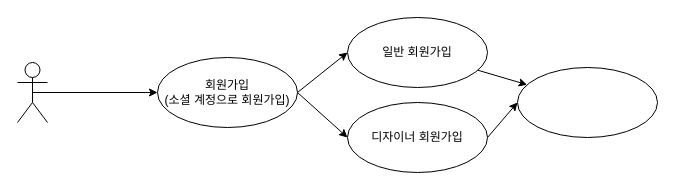
The diagram is 675 pixels wide and 190 high, and some of its shapes have lost their labels. Each missing label, with the centre of its shape:
"Actor" goes at [32,92].
"프로필 수정" goes at [587,102].
